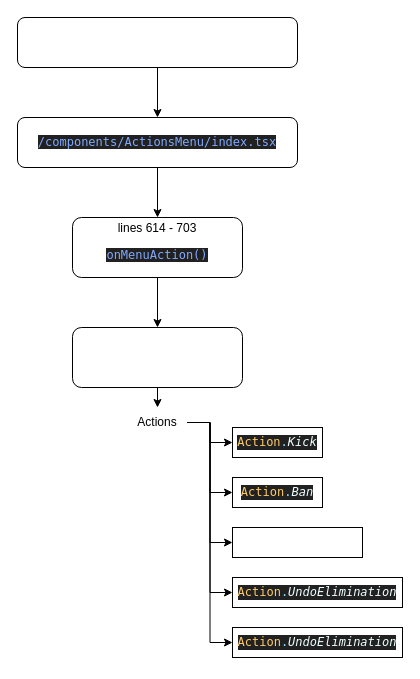
The diagram is 420 pixels wide and 679 high, and some of its shapes have lost their labels. The box of each missing label's shape, as (x1, y1, x2, y2) in pixels:
/components/Line/index.tsx: (16, 16, 298, 68)
Action . Eliminate: (232, 526, 362, 558)
lines 403 - 612 getActionDialogSpec(): (72, 326, 242, 388)
